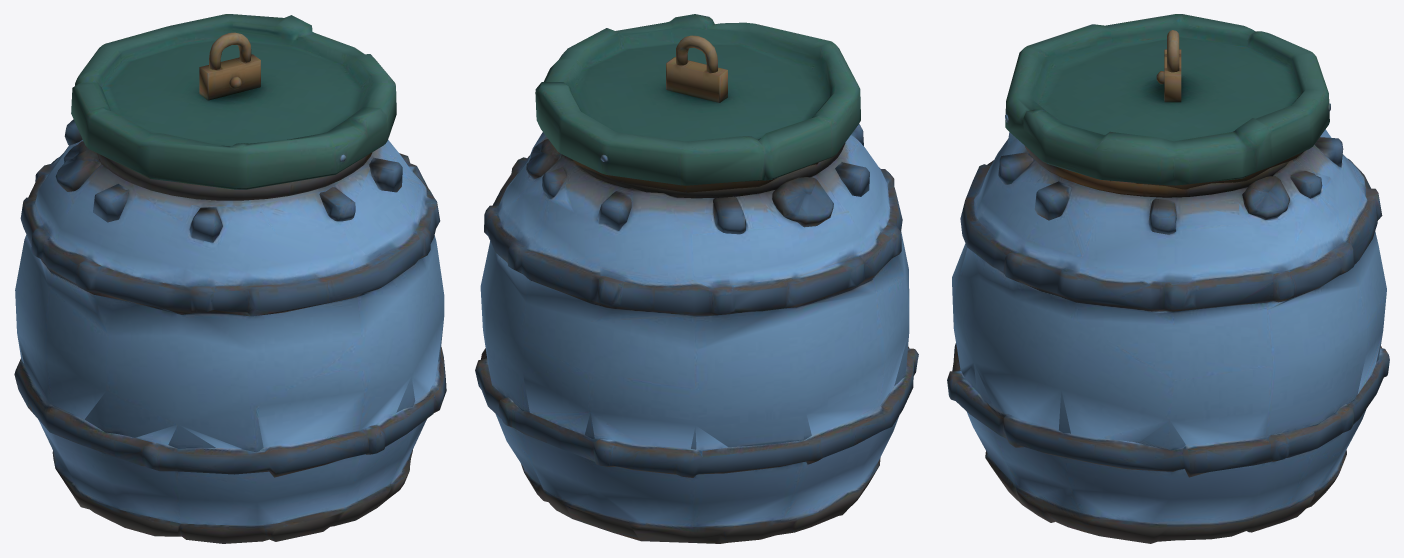
Rendered from model_web.glb.
3 renders of one model, left to right at view 1: azimuth 30°, elevation 25°; view 2: azimuth 150°, elevation 25°; view 3: azimuth 270°, elevation 25°, orthographic.
Parts seen in each view (by area): view 1: tripo_node_fffdbbcf-4a7c-4a7c-9cc2-008da6061a43; view 2: tripo_node_fffdbbcf-4a7c-4a7c-9cc2-008da6061a43; view 3: tripo_node_fffdbbcf-4a7c-4a7c-9cc2-008da6061a43.
Part boxes in pixels (x1,y1,x2,y2): tripo_node_fffdbbcf-4a7c-4a7c-9cc2-008da6061a43: [14, 14, 446, 543]; tripo_node_fffdbbcf-4a7c-4a7c-9cc2-008da6061a43: [475, 14, 918, 543]; tripo_node_fffdbbcf-4a7c-4a7c-9cc2-008da6061a43: [947, 14, 1389, 543].
Bounding box in the file's own units: 0.8926 × 0.998 × 0.9082.
Materials: 1 (1 with a texture image).
